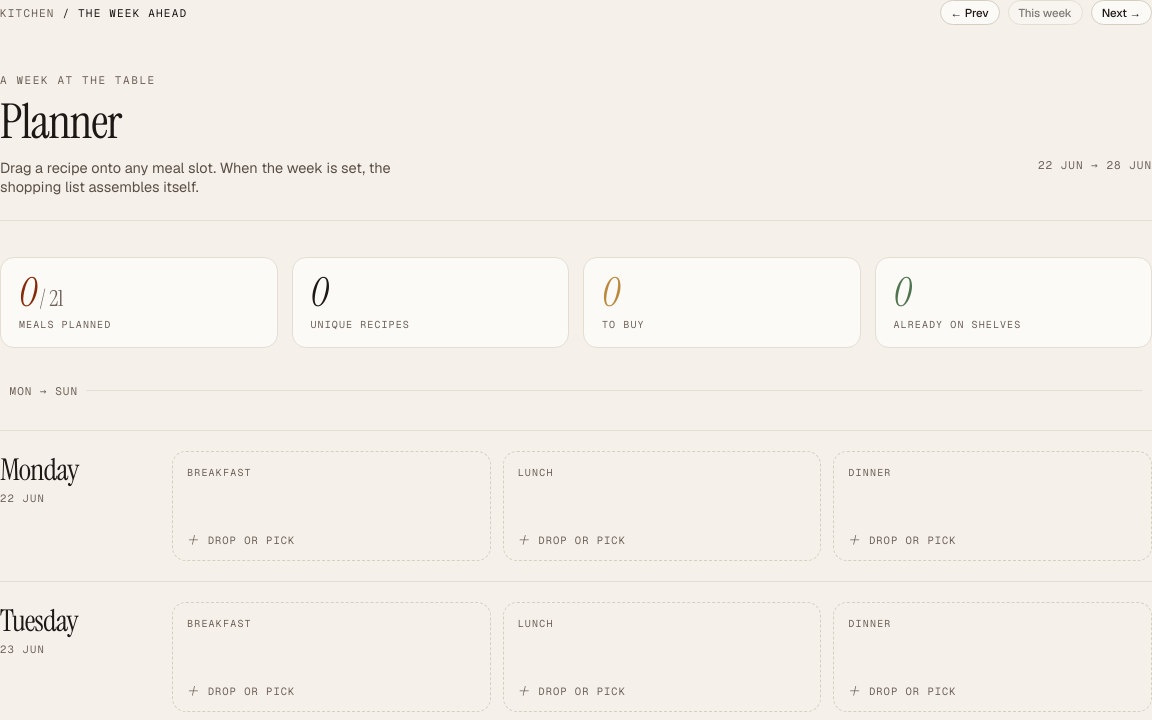
Scenario: PlannerScreen – recipe picker modal › clicking an empty meal slot opens the picker modal
Click the 1st button "+ drop or pick".
click(251, 540)  # box [187,533,476,548]
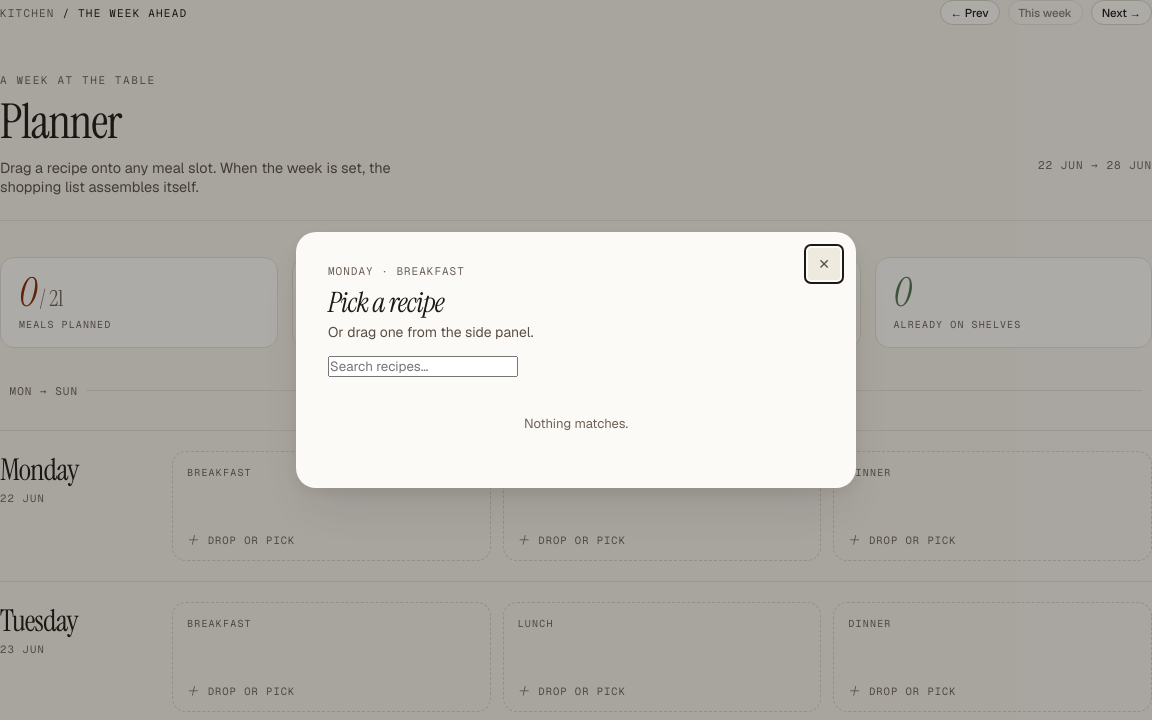
Result: the dialog is shown at [296,232,856,488]
Result: the text "Pick a recipe" is shown at [328,284,444,321]
